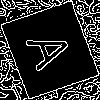A: (25, 25, 84, 74)
